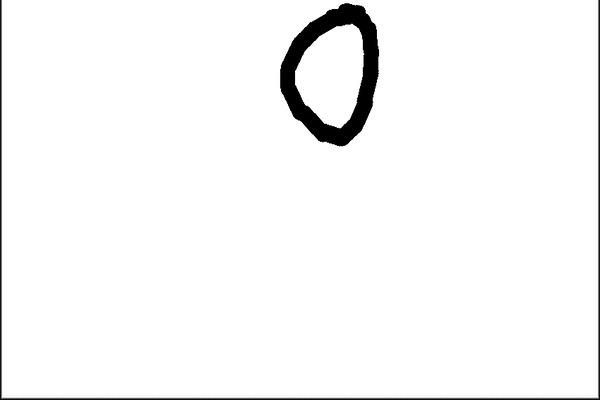O: (275, 2, 388, 152)
